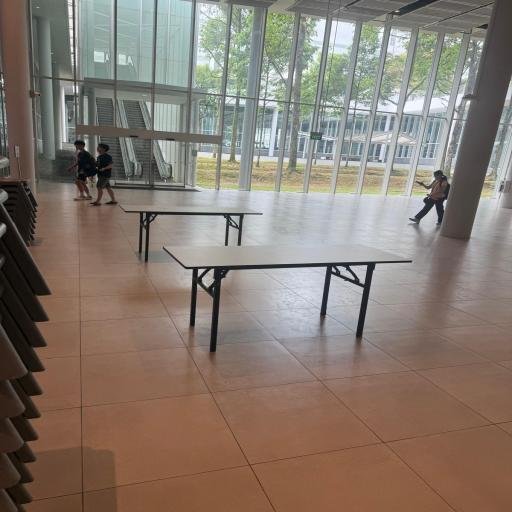person_left: (408, 170, 450, 225), (89, 143, 118, 206), (66, 140, 94, 201)
